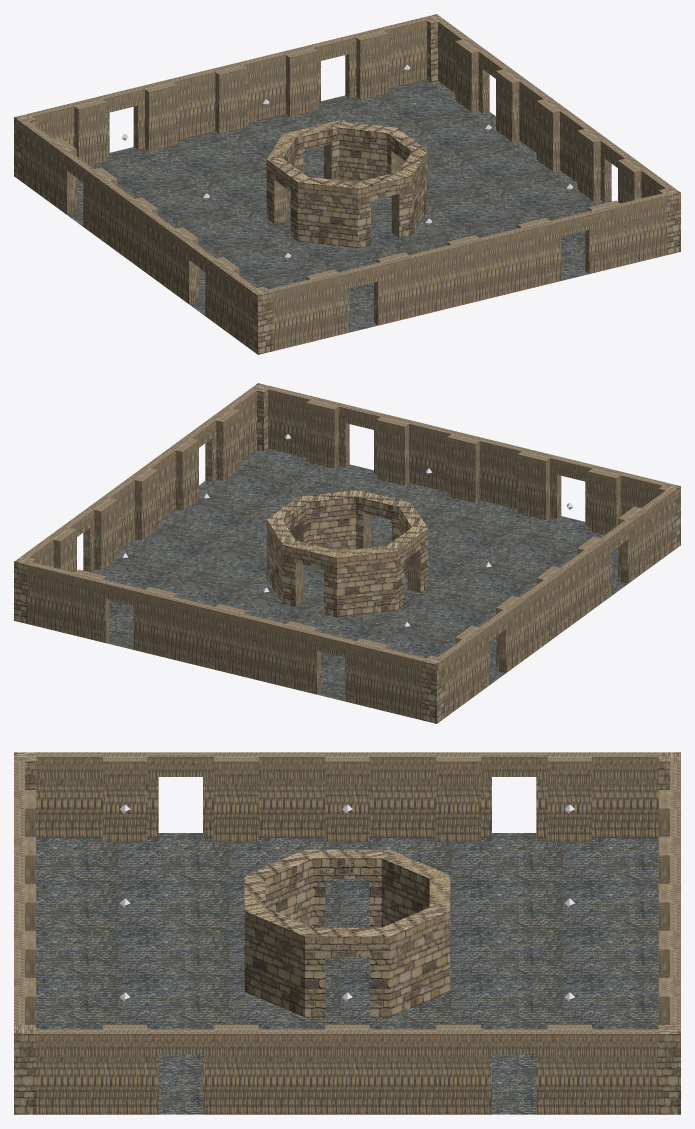
Rendered from 1_playerSpawn.fbx.
The picture shows the model from 3 angles, top to bottom: view 1: azimuth 30°, elevation 25°; view 2: azimuth 150°, elevation 25°; view 3: azimuth 270°, elevation 25°; orthographic projection. The views are drawn at different scales.
Parts seen in each view (by area): view 1: Tube_1, Plane; view 2: Tube_1, Plane; view 3: Tube_1, Plane.
Boxes of the visible parts, x1=… form: Tube_1: x1=14, y1=14, x2=680, y2=354; Plane: x1=67, y1=79, x2=611, y2=332; Tube_1: x1=14, y1=383, x2=680, y2=723; Plane: x1=83, y1=448, x2=627, y2=701; Tube_1: x1=14, y1=752, x2=680, y2=1114; Plane: x1=36, y1=833, x2=658, y2=1114.
Bounding box in the file's own units: 60 × 8 × 60.
3 materials, 3 textured.
